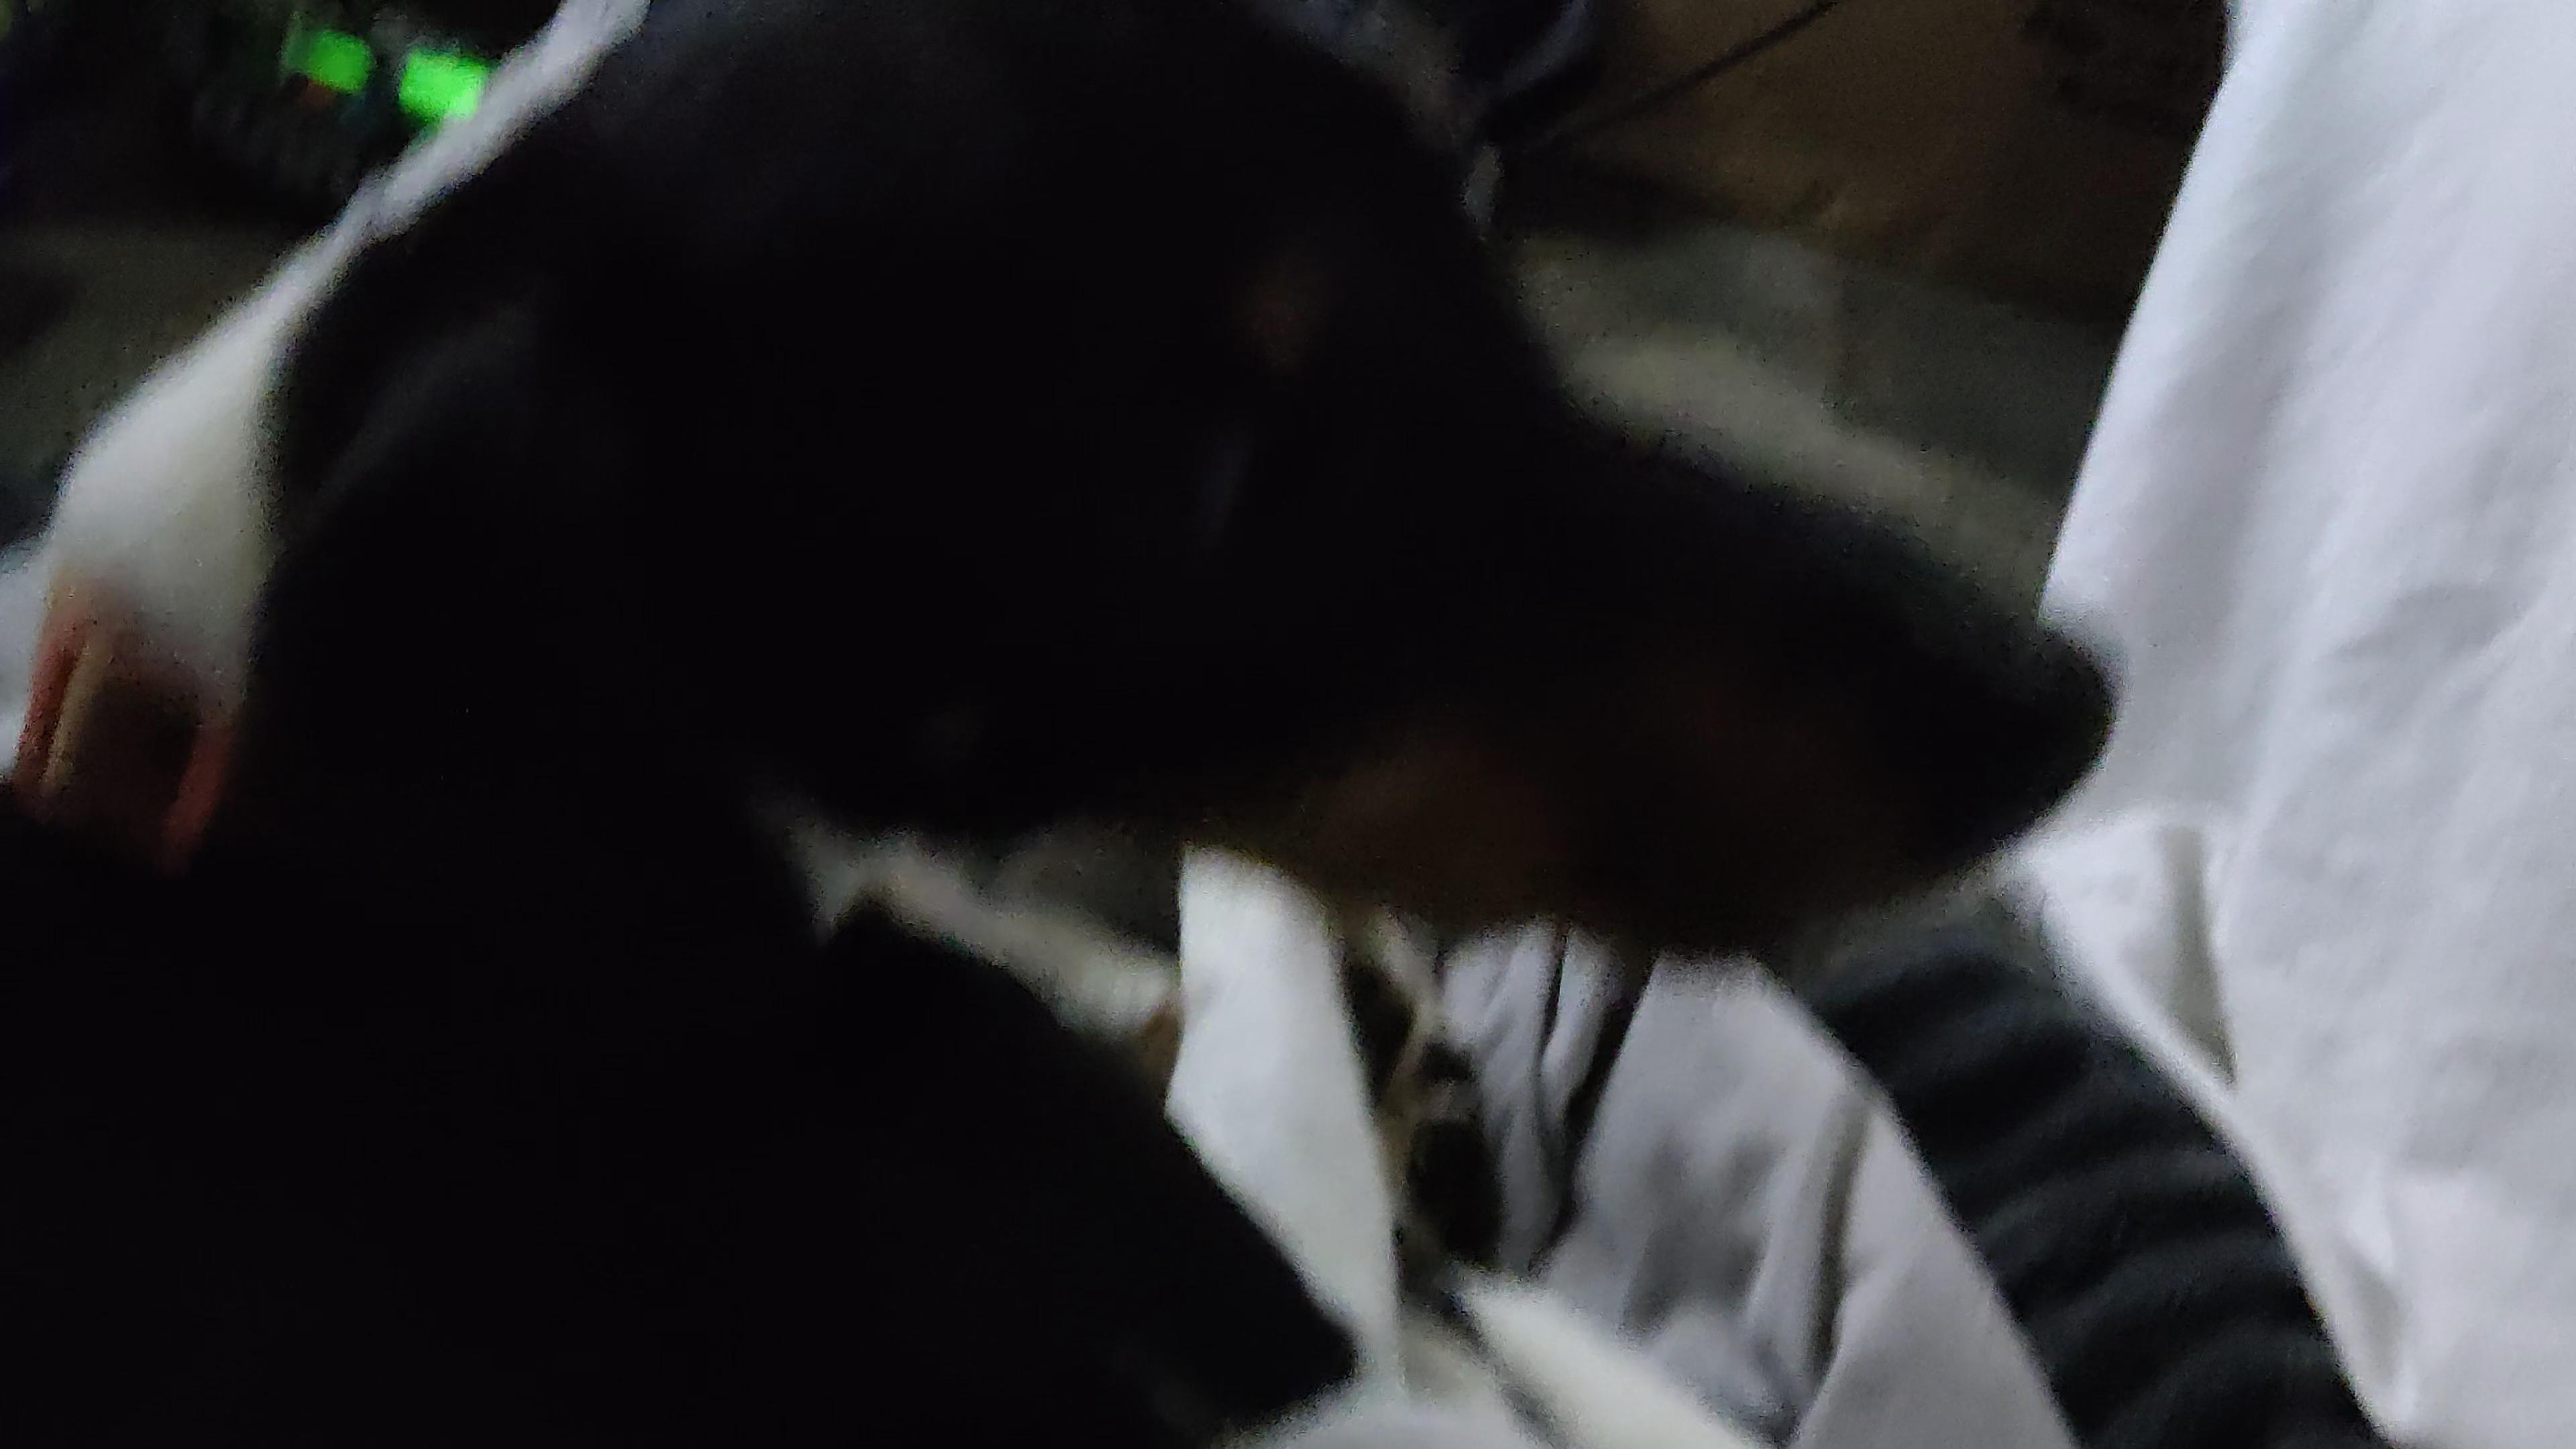Dog: (0, 0, 2135, 1449)
